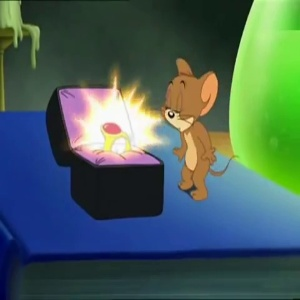Jerry: (161, 60, 219, 132)
